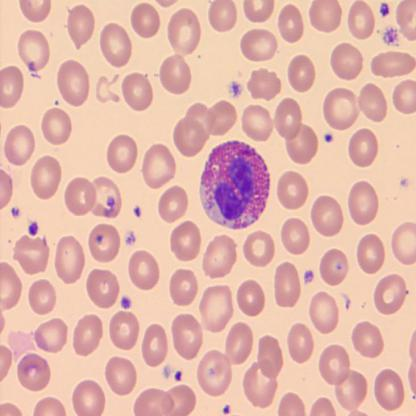Eosinophil: (199, 137, 271, 232)
